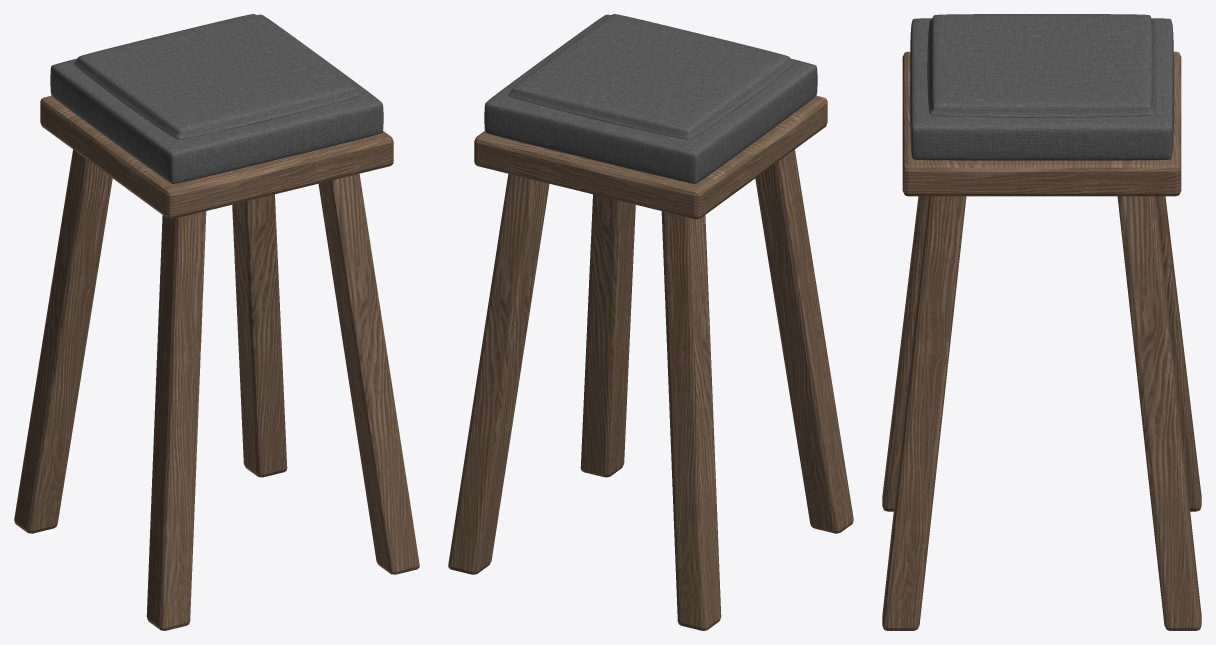
File: sgabello_manuale.glb
The picture shows the model from 3 angles, left to right: view 1: azimuth 30°, elevation 25°; view 2: azimuth 150°, elevation 25°; view 3: azimuth 270°, elevation 25°; orthographic projection. The views are drawn at different scales.
Parts seen in each view (by area): view 1: Seduta, Cuscino; view 2: Seduta, Cuscino; view 3: Seduta, Cuscino.
Boxes of the visible parts, x1,y1,x2,y2 form: Seduta: [14, 95, 419, 630]; Cuscino: [50, 14, 383, 183]; Seduta: [448, 95, 853, 630]; Cuscino: [484, 14, 817, 183]; Seduta: [882, 51, 1201, 630]; Cuscino: [910, 14, 1173, 160].
Bounding box in the file's own units: 0.4583 × 0.8048 × 0.4583.
2 materials, 2 textured.
